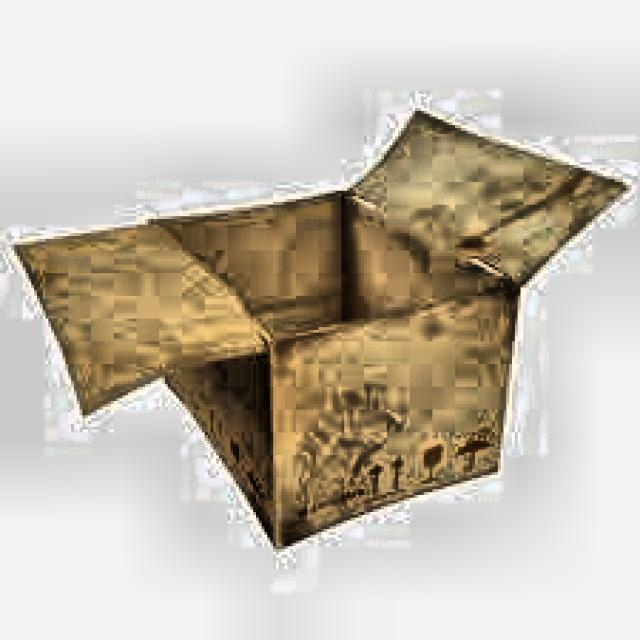Cardbox: (10, 104, 640, 550)
